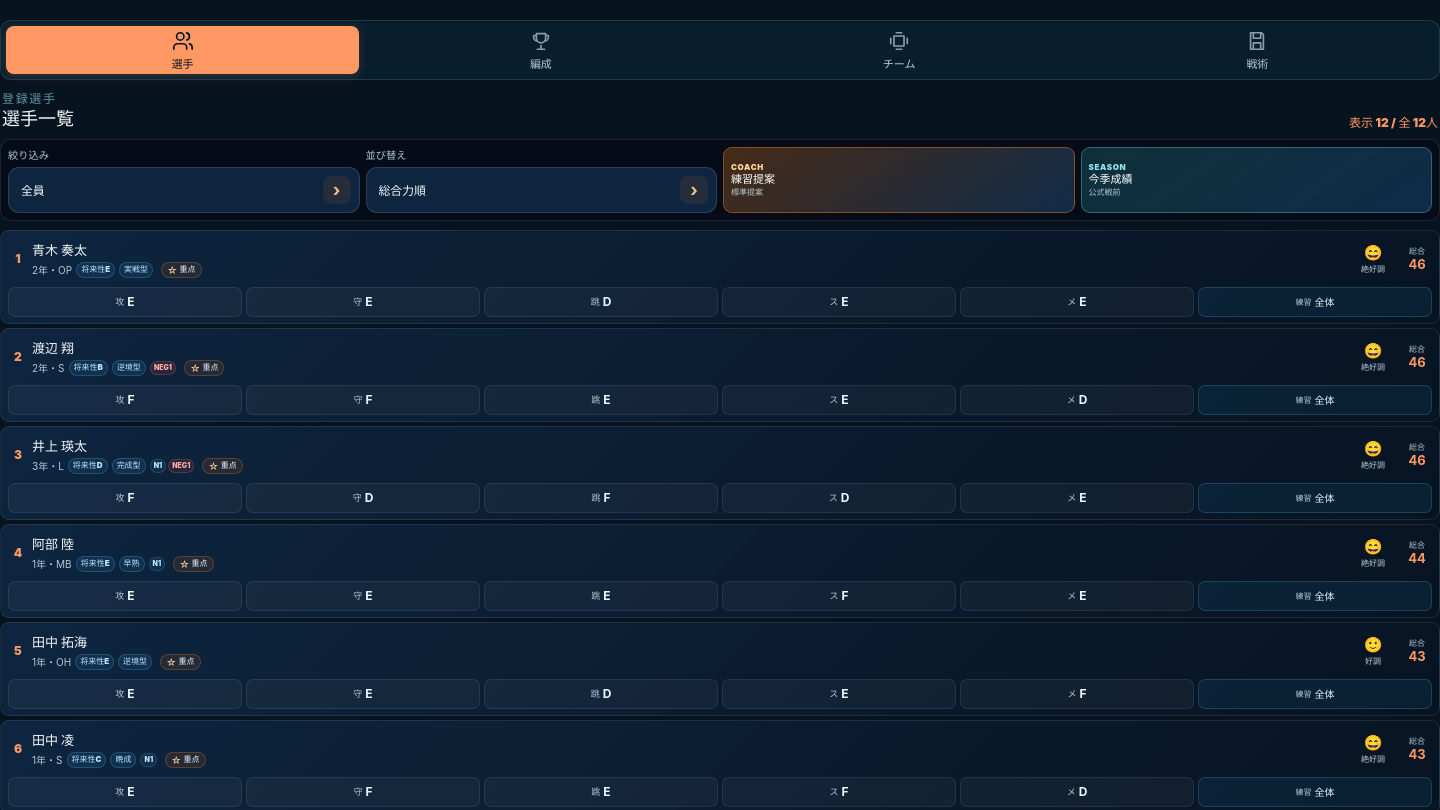
Test case: PlayerHubScreen team tactics › disables tactics mutations while an authoritative save is pending
Click the button "戦術": x=1257, y=50 [1081,26,1434,74]
(page scrolled)
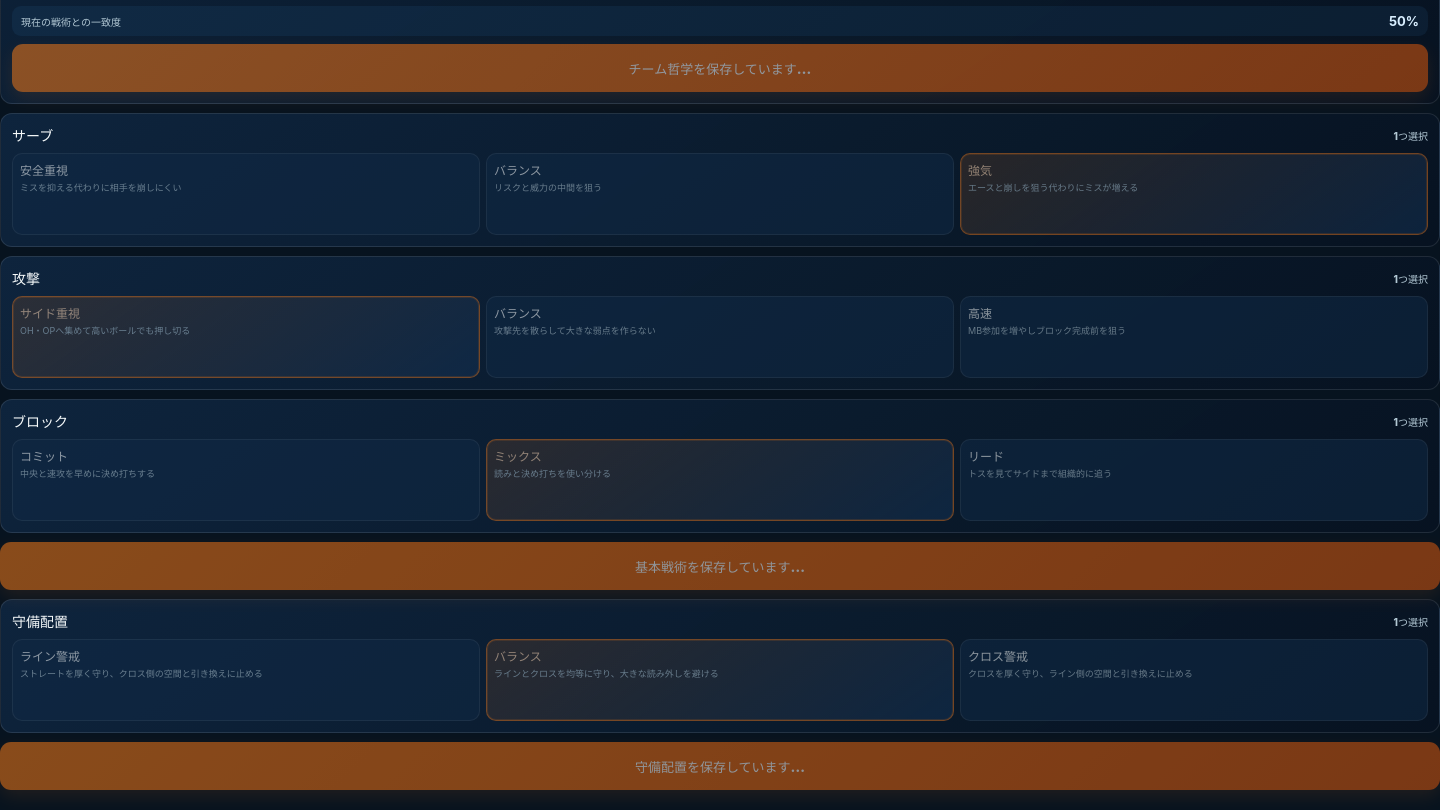
Expected: the button "基本戦術を保存しています…" is disabled, [0,542,1439,590]
